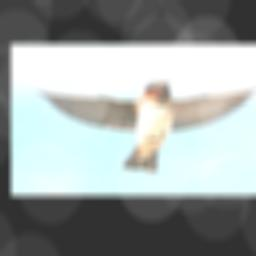Swallow: (32, 80, 256, 172)
